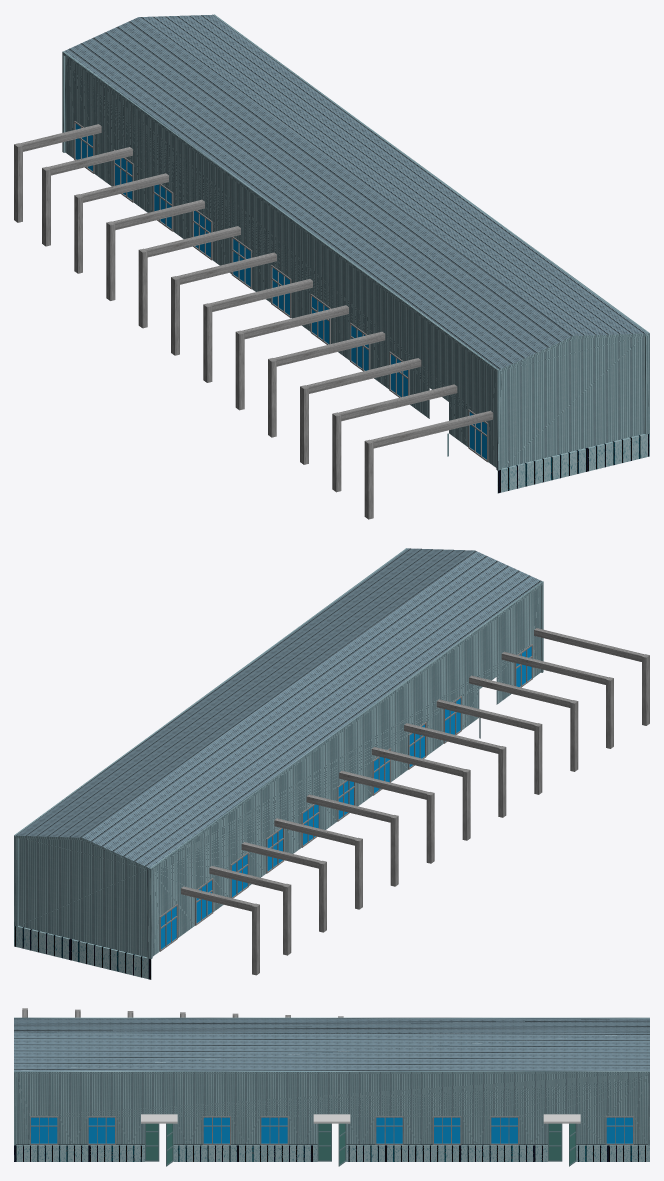
The model's file is changfang13.gltf.
3 renders of one model, top to bottom at view 1: azimuth 30°, elevation 25°; view 2: azimuth 150°, elevation 25°; view 3: azimuth 270°, elevation 25°, orthographic. The views are drawn at different scales.
Parts seen in each view (by area): view 1: gongchang13_25, gongchang13_24, gongchang13_22, gongchang13_20, gongchang13_18, gongchang13_16, gongchang13_14, gongchang13_12, gongchang13_10, gongchang13_8, gongchang13_6, gongchang13_4 (+8 smaller); view 2: gongchang13_25, gongchang13_24, gongchang13_22, gongchang13_20, gongchang13_18, gongchang13_16, gongchang13_14, gongchang13_12, gongchang13_10, gongchang13_8, gongchang13_6, gongchang13_27 (+9 smaller); view 3: gongchang13_25, gongchang13_42, gongchang13_41, gongchang13_40, gongchang13_39, gongchang13_38, gongchang13_37, gongchang13_36, gongchang13_26, gongchang13_51, gongchang13_48, gongchang13_45 (+6 smaller).
Part boxes in pixels (box(x1,y1,x2,y2)): gongchang13_25: box(62, 14, 649, 493); gongchang13_24: box(370, 410, 493, 448); gongchang13_22: box(338, 384, 457, 421); gongchang13_20: box(306, 358, 421, 393); gongchang13_18: box(273, 331, 385, 366); gongchang13_16: box(241, 305, 348, 339); gongchang13_14: box(209, 279, 312, 311); gongchang13_12: box(177, 252, 276, 284); gongchang13_10: box(145, 226, 240, 257); gongchang13_8: box(112, 199, 204, 230); gongchang13_6: box(80, 173, 168, 202); gongchang13_4: box(48, 147, 132, 175); gongchang13_25: box(14, 548, 543, 979); gongchang13_24: box(534, 628, 644, 661); gongchang13_22: box(501, 652, 608, 684); gongchang13_20: box(469, 675, 572, 707); gongchang13_18: box(436, 699, 536, 730); gongchang13_16: box(404, 723, 500, 753); gongchang13_14: box(371, 747, 465, 776); gongchang13_12: box(339, 771, 429, 799); gongchang13_10: box(306, 794, 393, 822); gongchang13_8: box(274, 818, 357, 845); gongchang13_6: box(241, 842, 321, 868); gongchang13_27: box(159, 904, 177, 951); gongchang13_25: box(14, 1017, 649, 1161); gongchang13_42: box(30, 1116, 58, 1144); gongchang13_41: box(87, 1116, 115, 1144); gongchang13_40: box(202, 1116, 230, 1144); gongchang13_39: box(260, 1116, 288, 1144); gongchang13_38: box(375, 1116, 403, 1144); gongchang13_37: box(433, 1116, 461, 1144); gongchang13_36: box(490, 1116, 518, 1144); gongchang13_26: box(605, 1116, 633, 1144); gongchang13_51: box(317, 1123, 331, 1161); gongchang13_48: box(145, 1123, 159, 1161); gongchang13_45: box(548, 1123, 562, 1161).
Bounding box in the file's own units: 175 × 79 × 448.
Materials: 7 (3 with a texture image).
